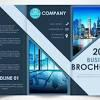paper: (0, 0, 100, 96)
